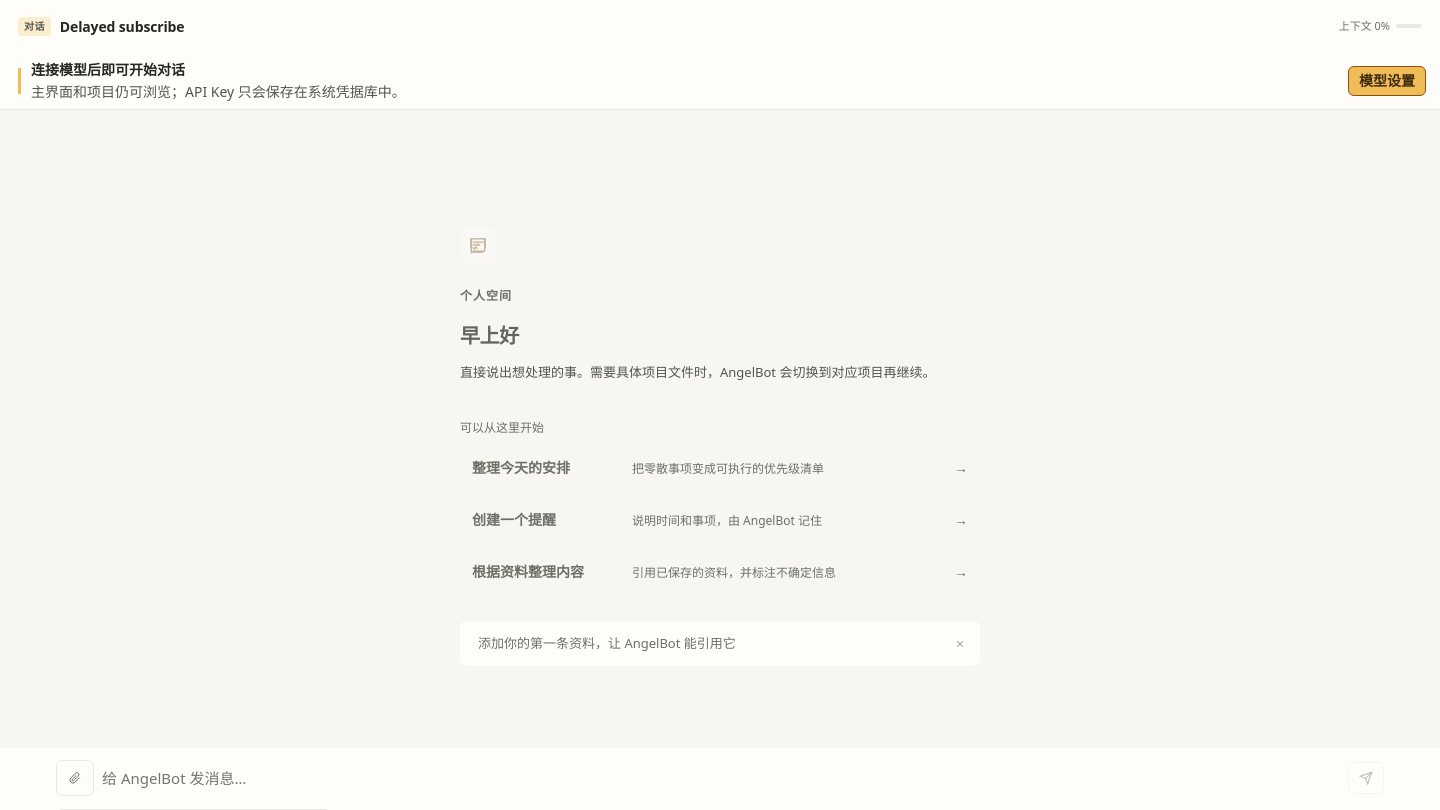
Test: ChatArea › does not clear a newer draft when delayed event subscription completes
Type "原始请求" into the text box. click: (721, 778)
box: [102,762,1340,795]
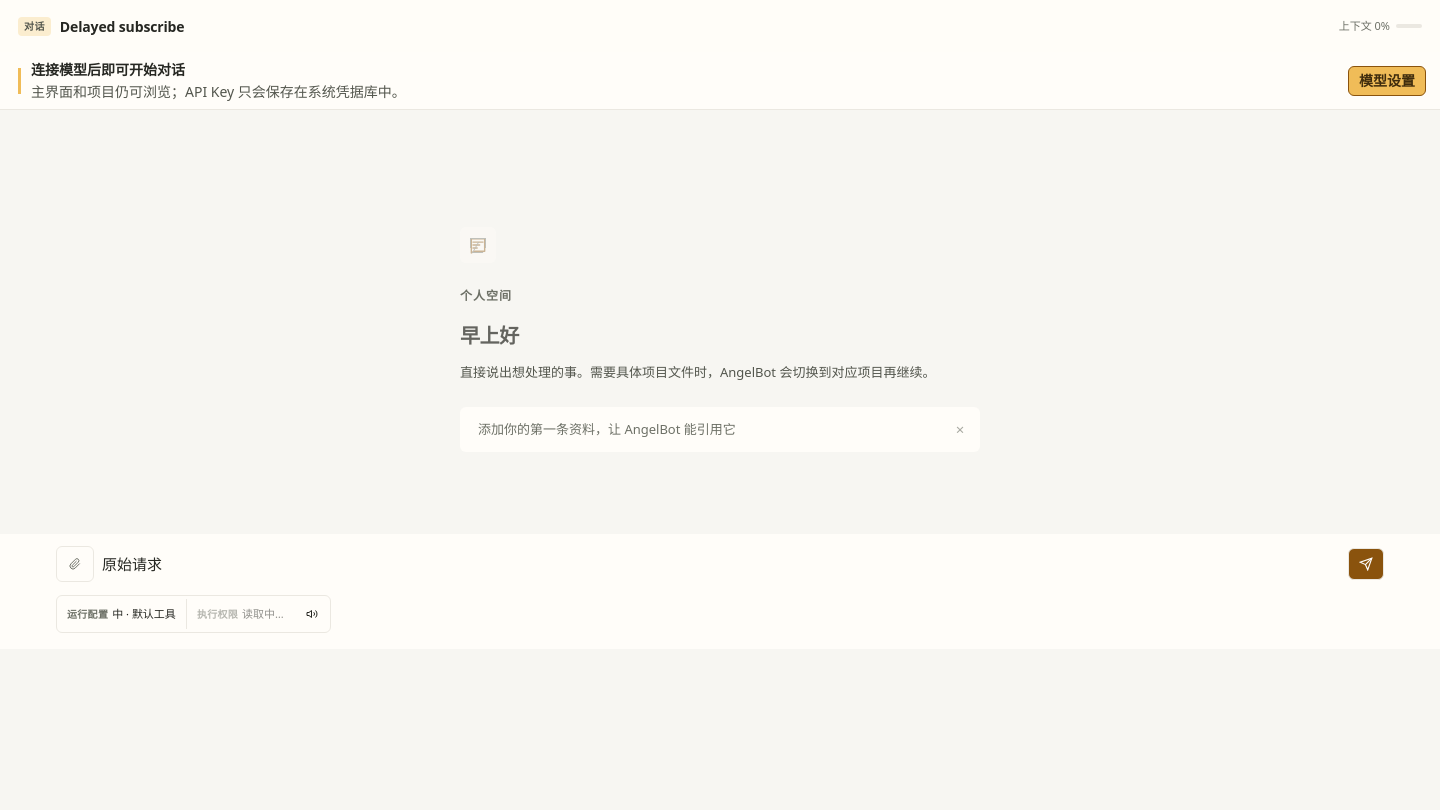
Click the button named "发送". click: (1366, 564)
box: [1348,548,1384,580]
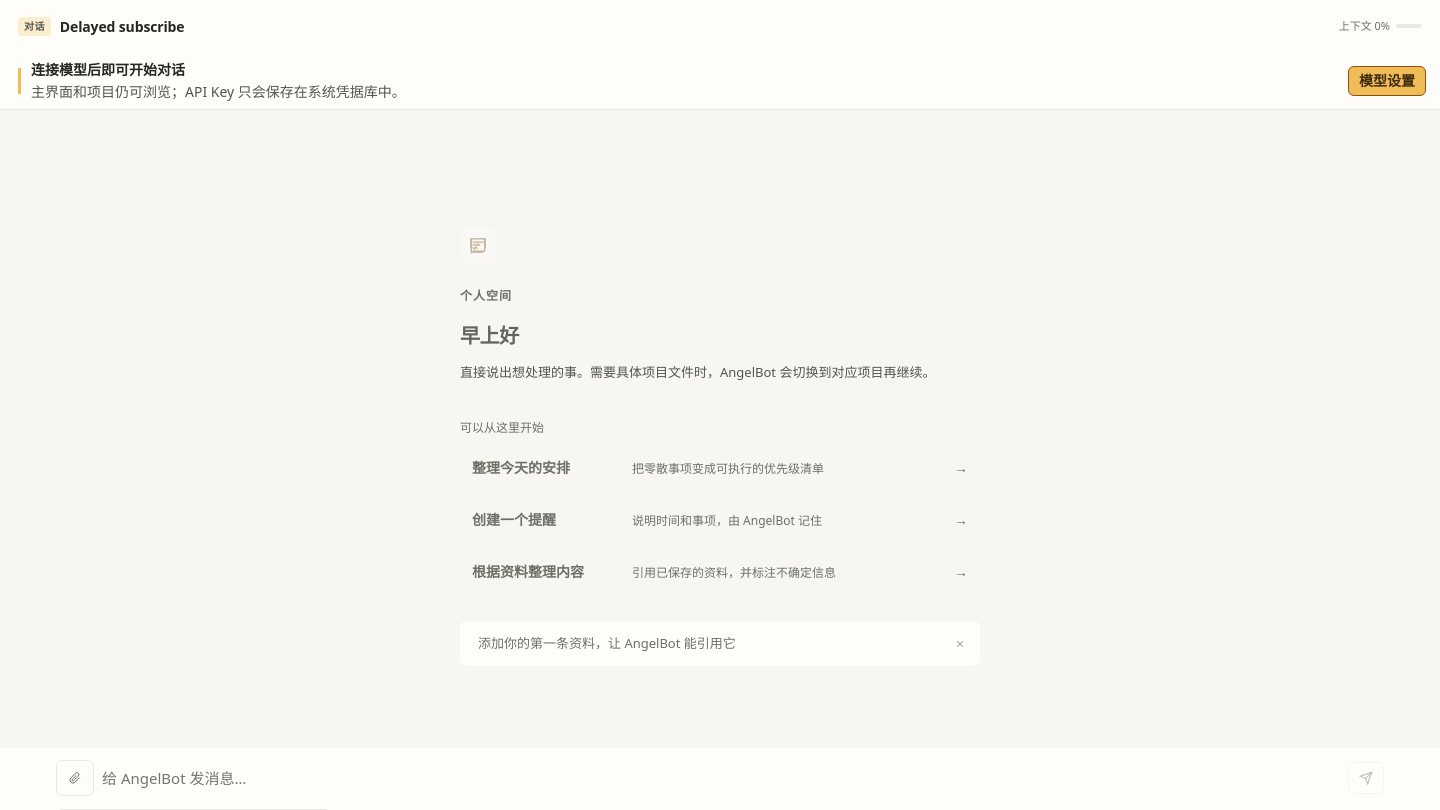
Expected: the text box is empty
Type "下一条草稿" into the text box. click: (721, 778)
box: [102,762,1340,795]
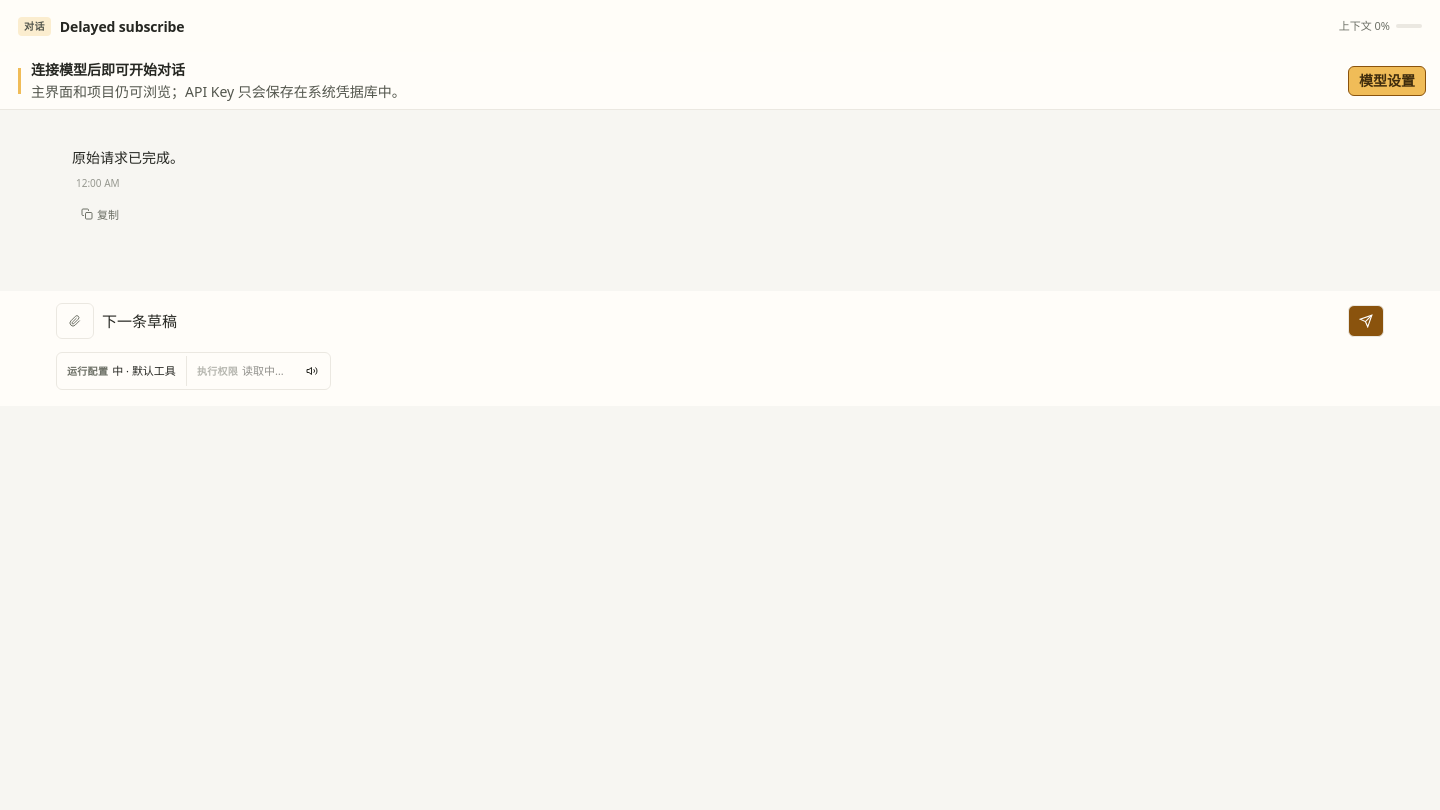
Expected: the text "原始请求已完成。" is shown, [72,148,184,167]
